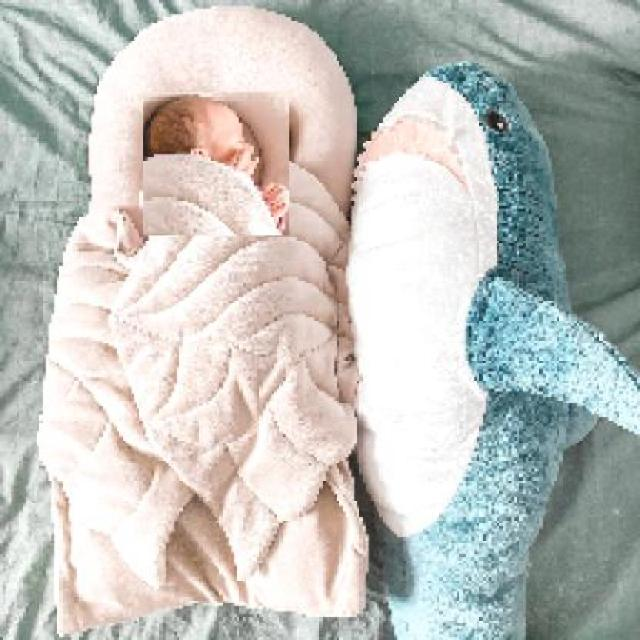child: (142, 92, 289, 237)
